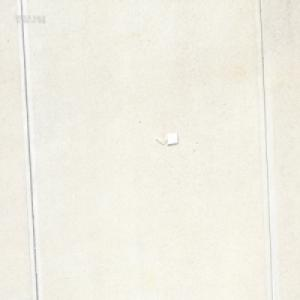LuggageTag: (153, 131, 178, 147)
